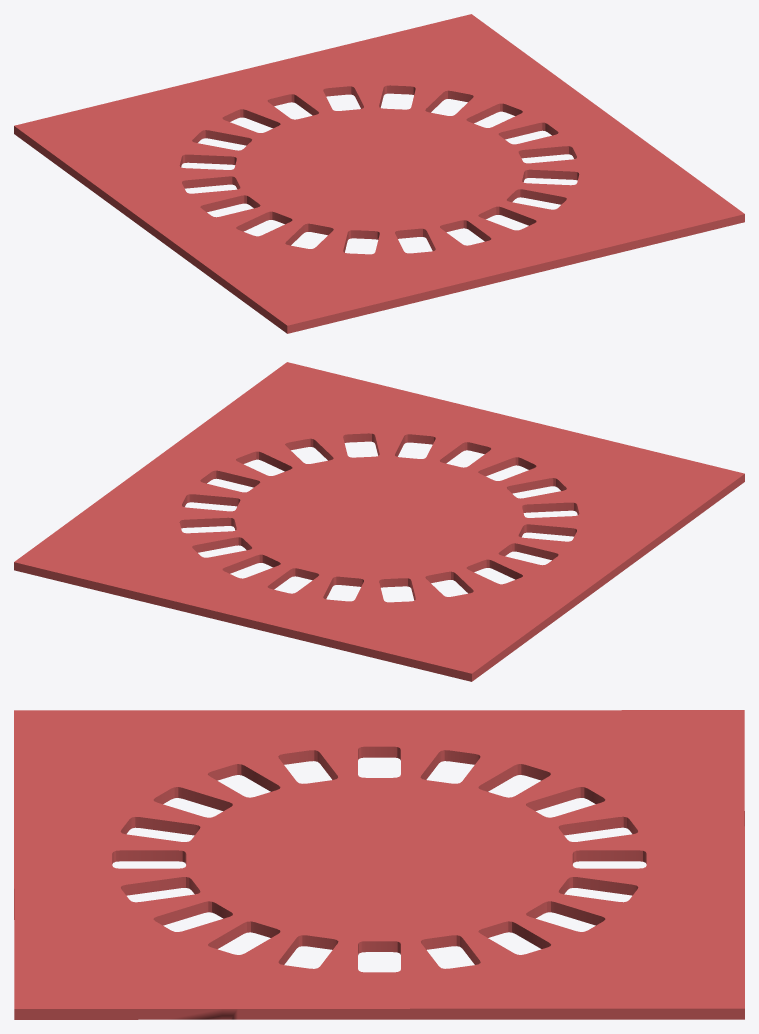
File: Menu_Rotating_Wheel.FBX
3 renders of one model, top to bottom at view 1: azimuth 30°, elevation 25°; view 2: azimuth 150°, elevation 25°; view 3: azimuth 270°, elevation 25°, orthographic. The views are drawn at different scales.
Visible parts, largest first — view 1: Box019; view 2: Box019; view 3: Box019.
Part boxes in pixels (box(x1,y1,x2,y2)): Box019: box(14, 14, 744, 333); Box019: box(14, 362, 744, 681); Box019: box(14, 710, 744, 1019).
Bounding box in the file's own units: 11473 × 196 × 11865.
